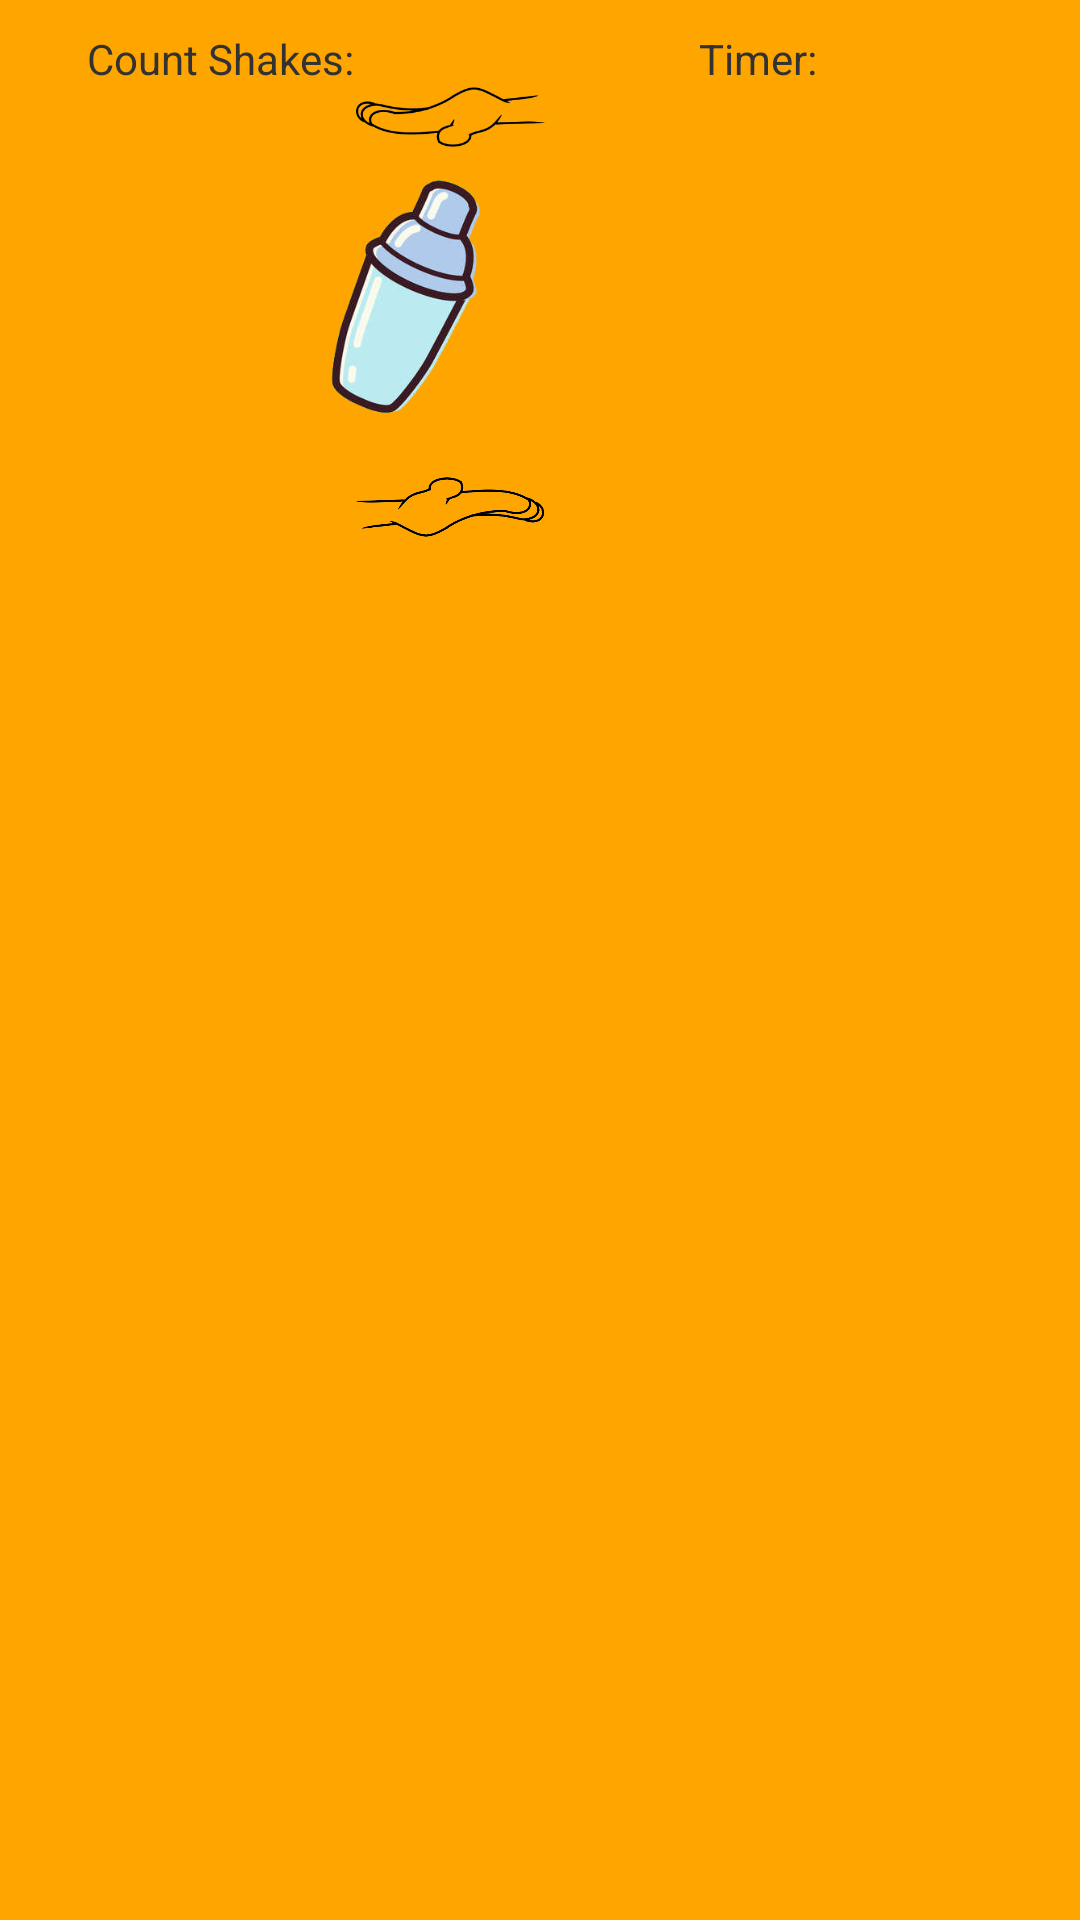

Where icons sit on this 1080*1920 app screen, as (x1, y1, x2, y2):
cocktailshaker: (331, 180, 480, 413)
handbottem: (356, 477, 544, 537)
handtop: (356, 87, 545, 147)
